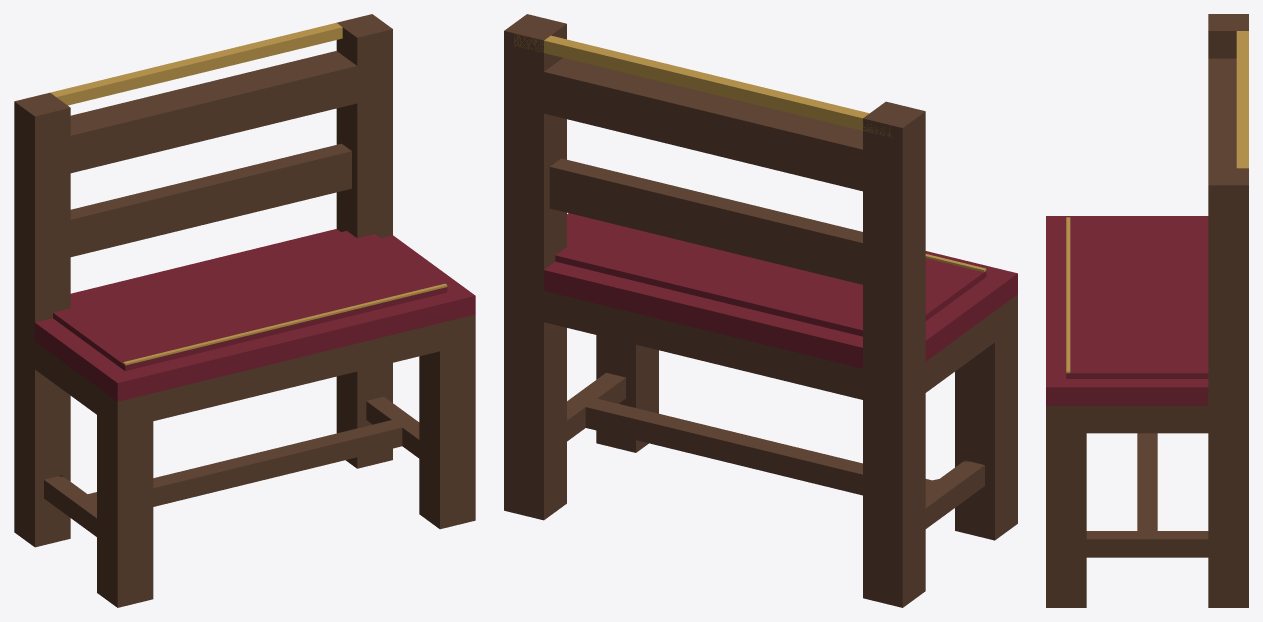
File: benchCushion.glb
The picture shows the model from 3 angles, left to right: view 1: azimuth 30°, elevation 25°; view 2: azimuth 150°, elevation 25°; view 3: azimuth 270°, elevation 25°; orthographic projection. The views are drawn at different scales.
Visible parts, largest first — view 1: benchCushion(Clone); view 2: benchCushion(Clone); view 3: benchCushion(Clone).
Part boxes in pixels (box(x1,y1,x2,y2)): benchCushion(Clone): box(14, 14, 475, 607); benchCushion(Clone): box(504, 14, 1017, 607); benchCushion(Clone): box(1046, 14, 1248, 607).
Bounding box in the file's own units: 0.4 × 0.46 × 0.2.
